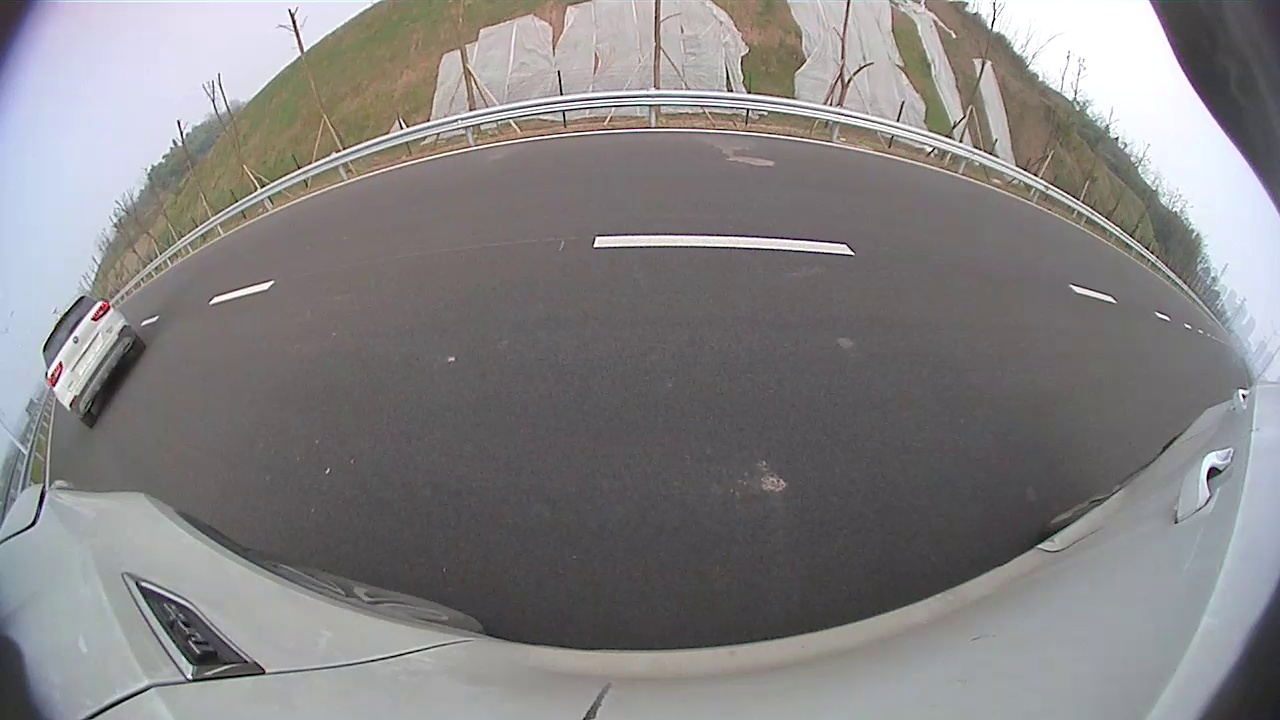car: (41, 295, 148, 429)
